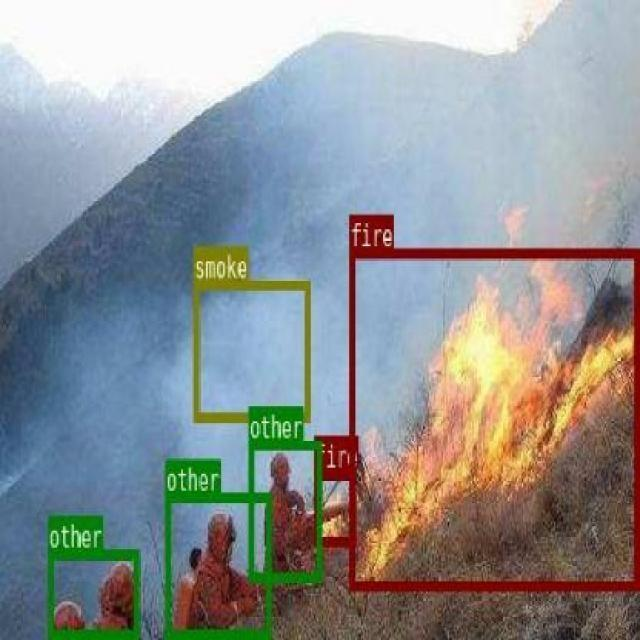fire: (349, 248, 638, 588), (314, 470, 356, 545)
smoke: (194, 278, 309, 420)
